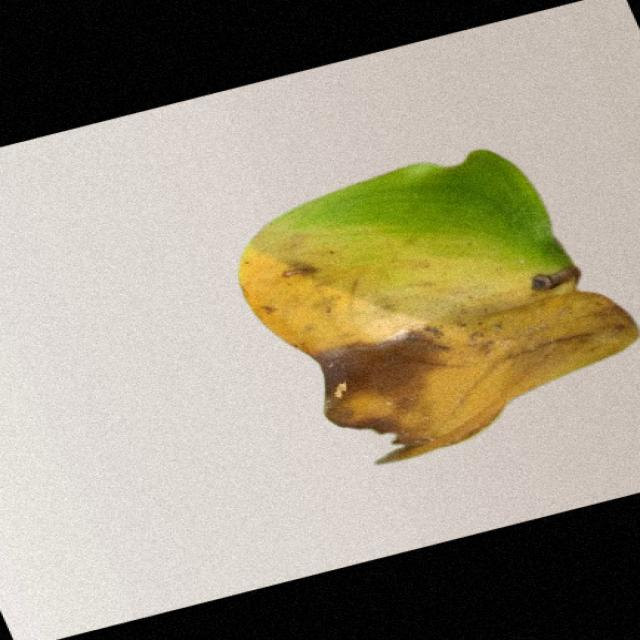daun berpenyakit kuning: (240, 151, 637, 464)
